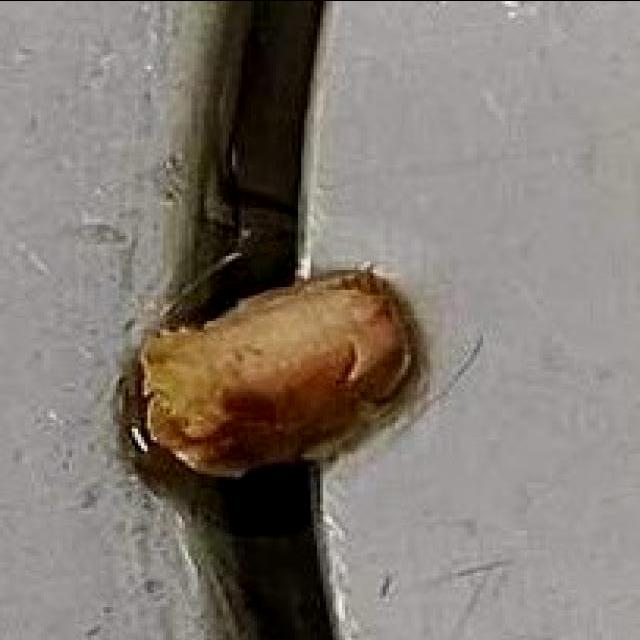Infectious: (138, 267, 414, 478)
